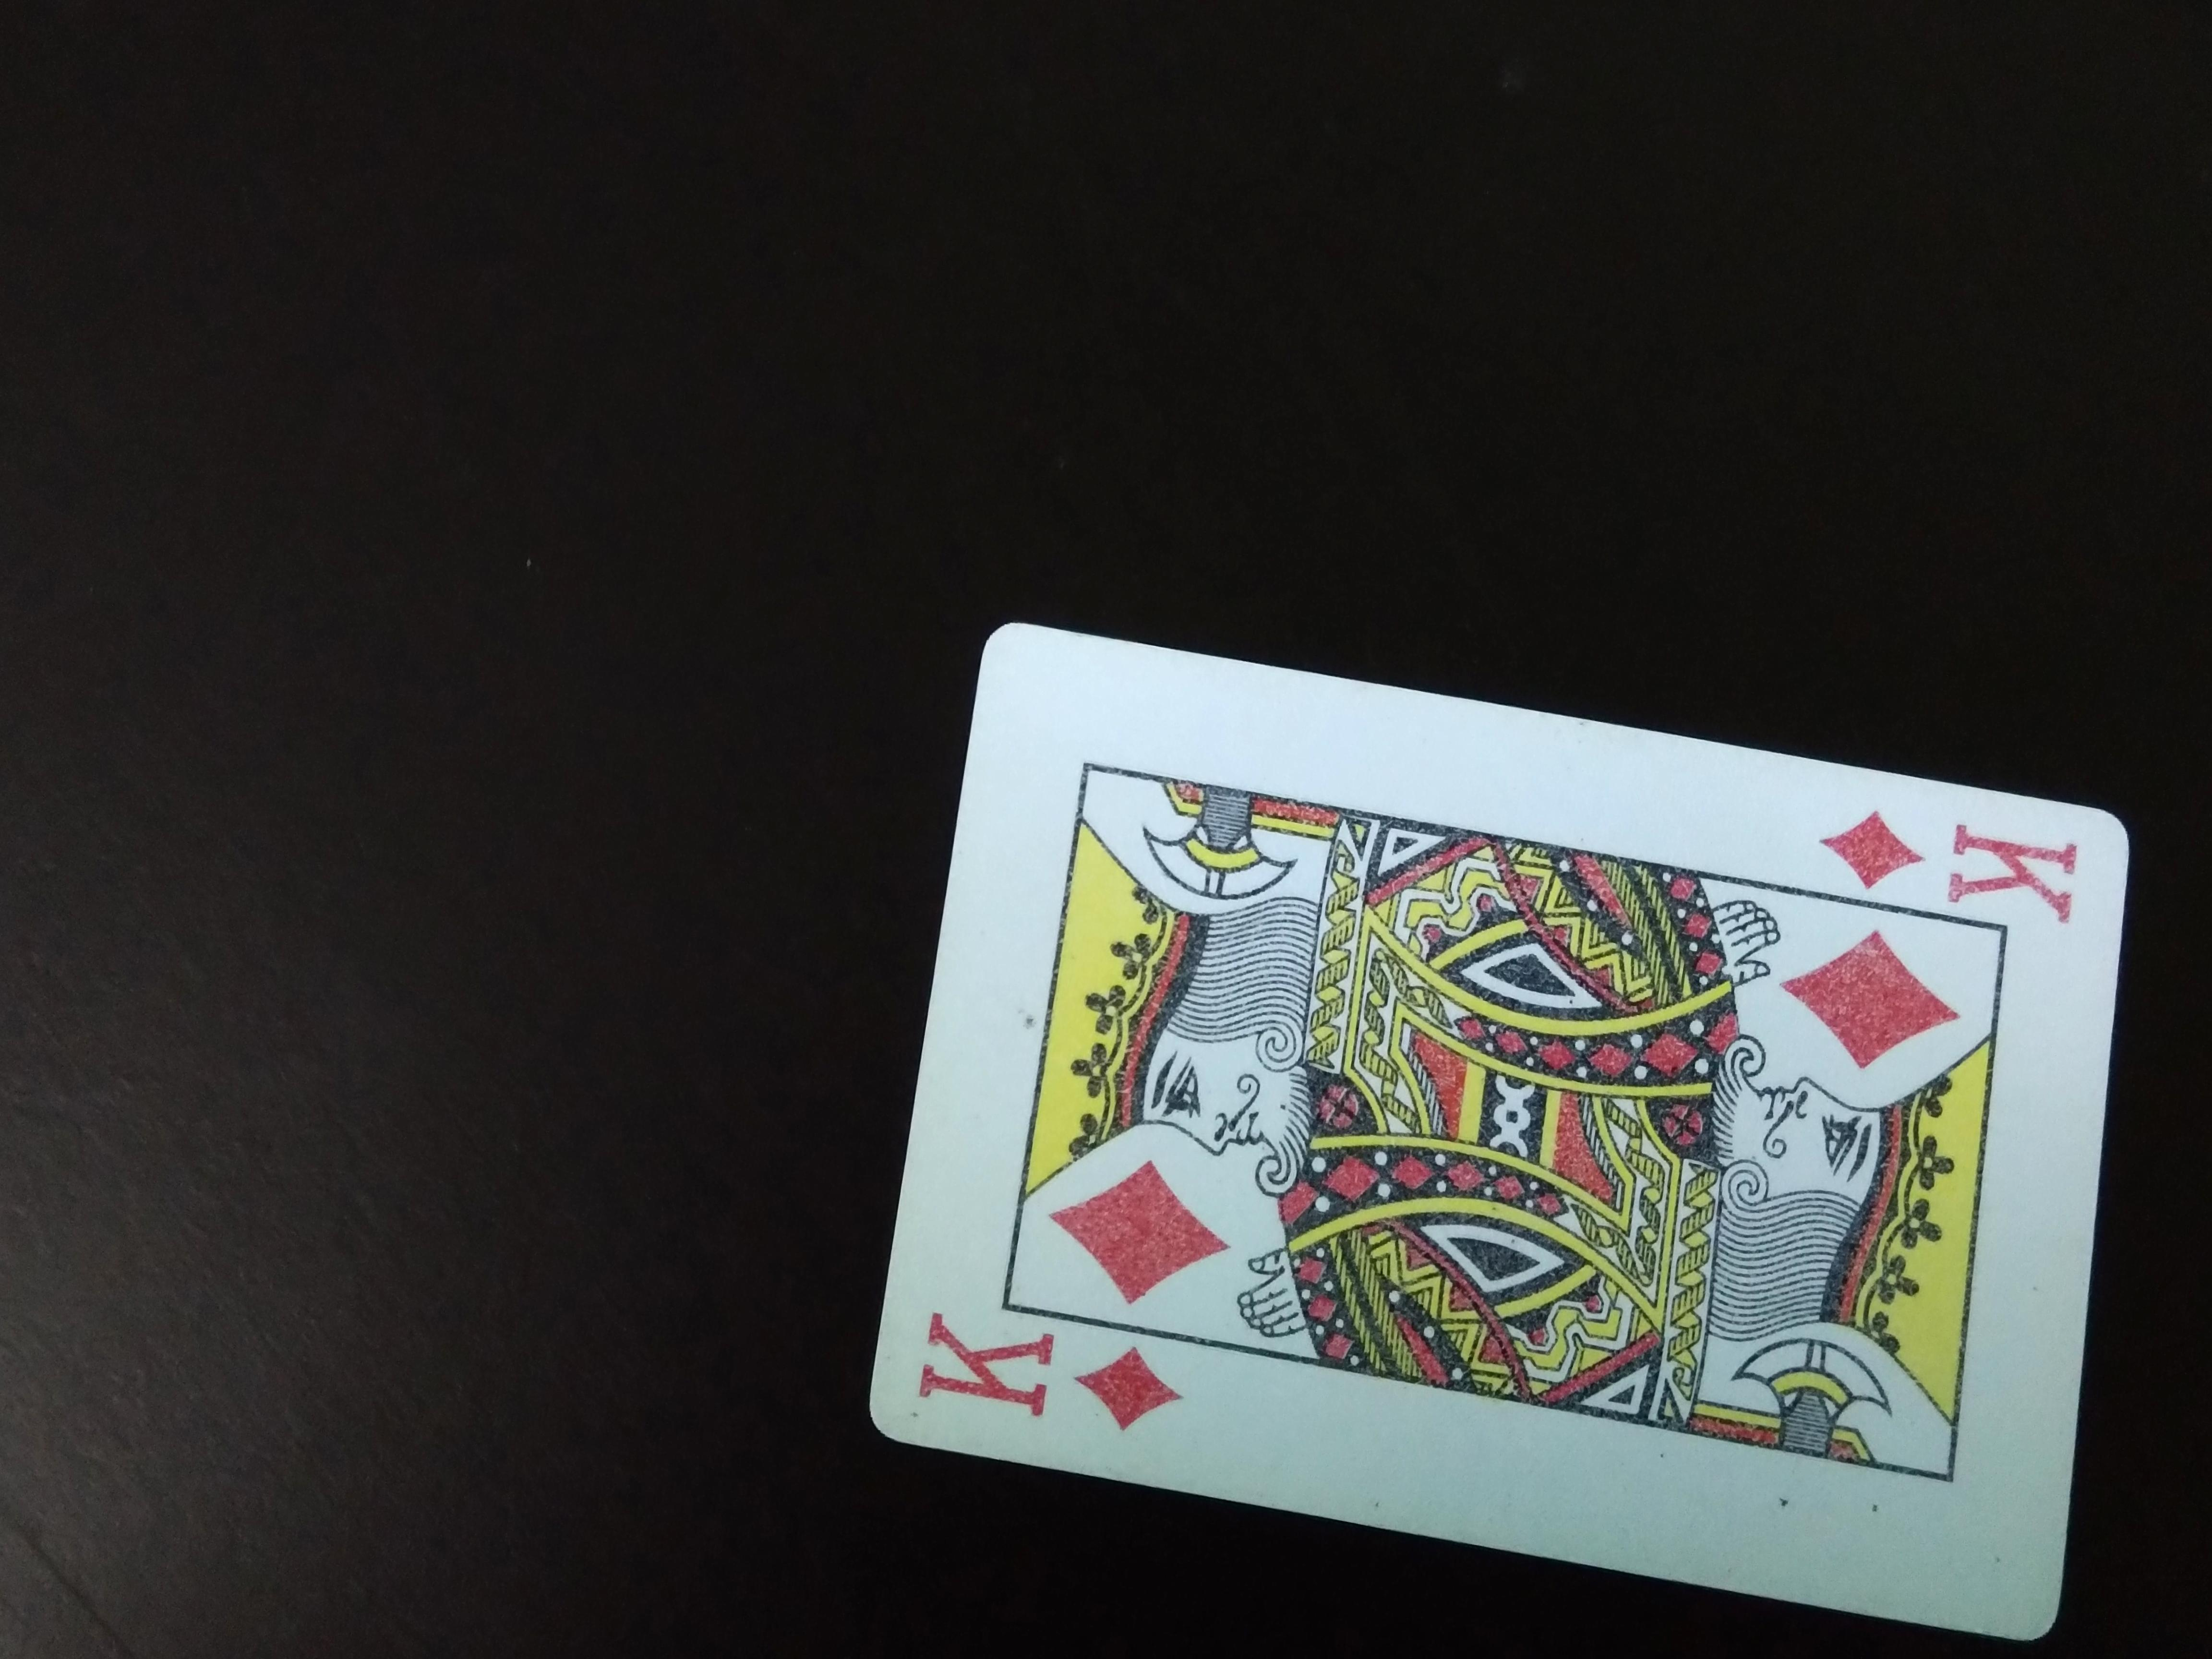KD: (904, 1317, 1191, 1431)
